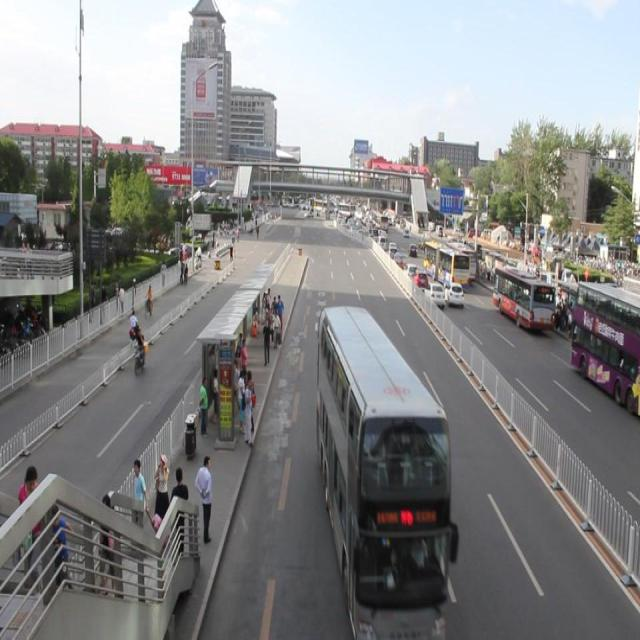van: (314, 307, 462, 640)
